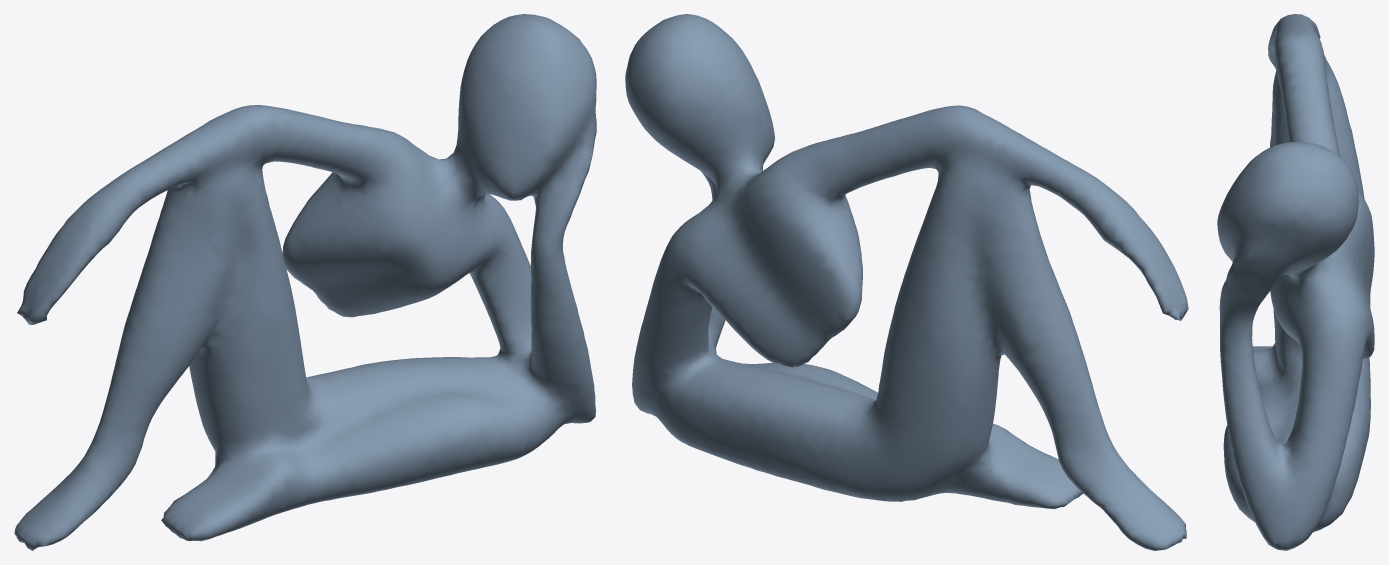
The model's file is indorelax_quads_gemini.glb.
3 views of the same model, side by side, from view 1: azimuth 30°, elevation 25°; view 2: azimuth 150°, elevation 25°; view 3: azimuth 270°, elevation 25° (orthographic). The views are drawn at different scales.
Bounding box in the file's own units: 0.9973 × 0.7001 × 0.2567.
